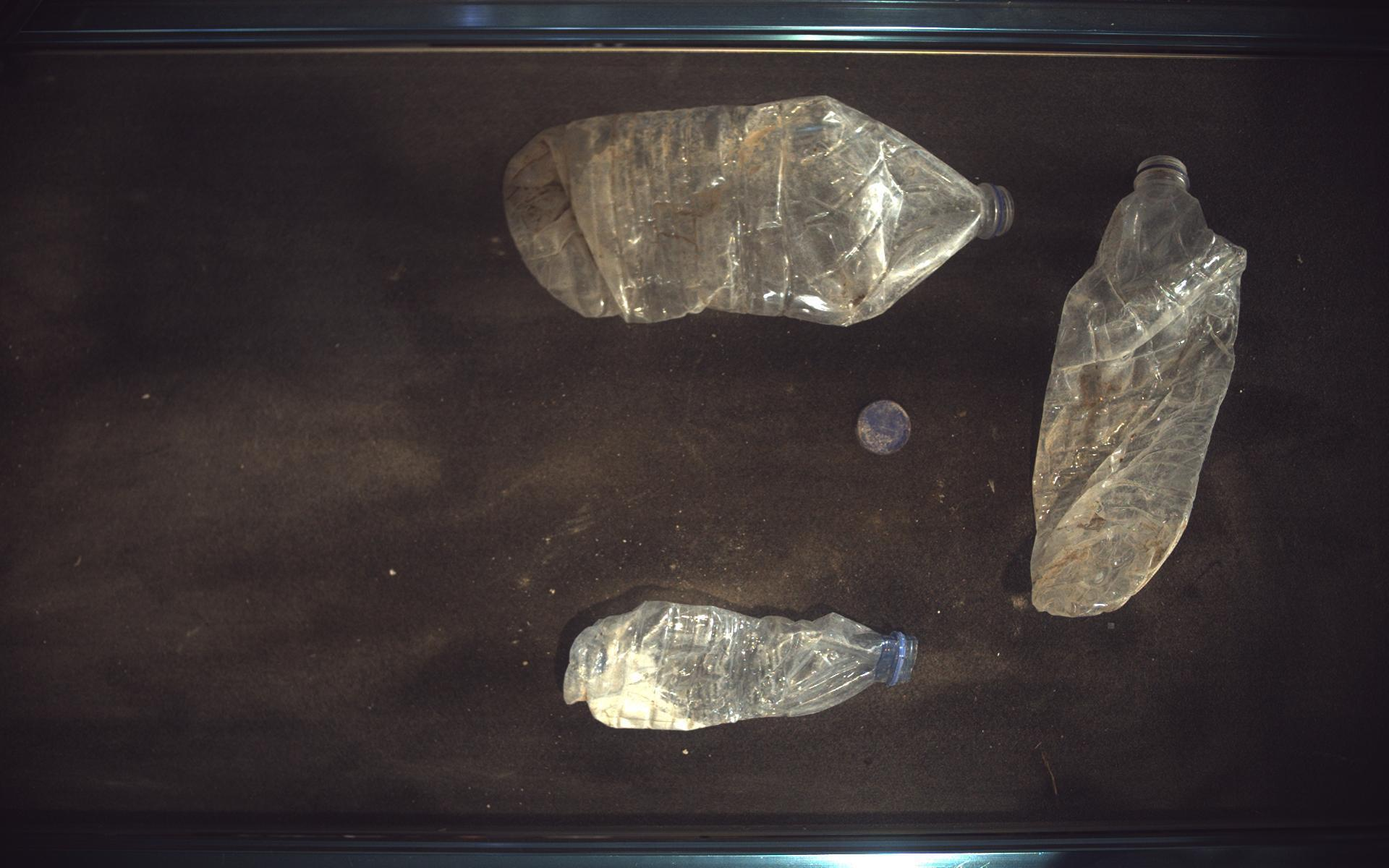general_w: (504, 95, 1016, 325), (1033, 155, 1249, 617), (564, 602, 919, 732), (859, 400, 912, 455)
